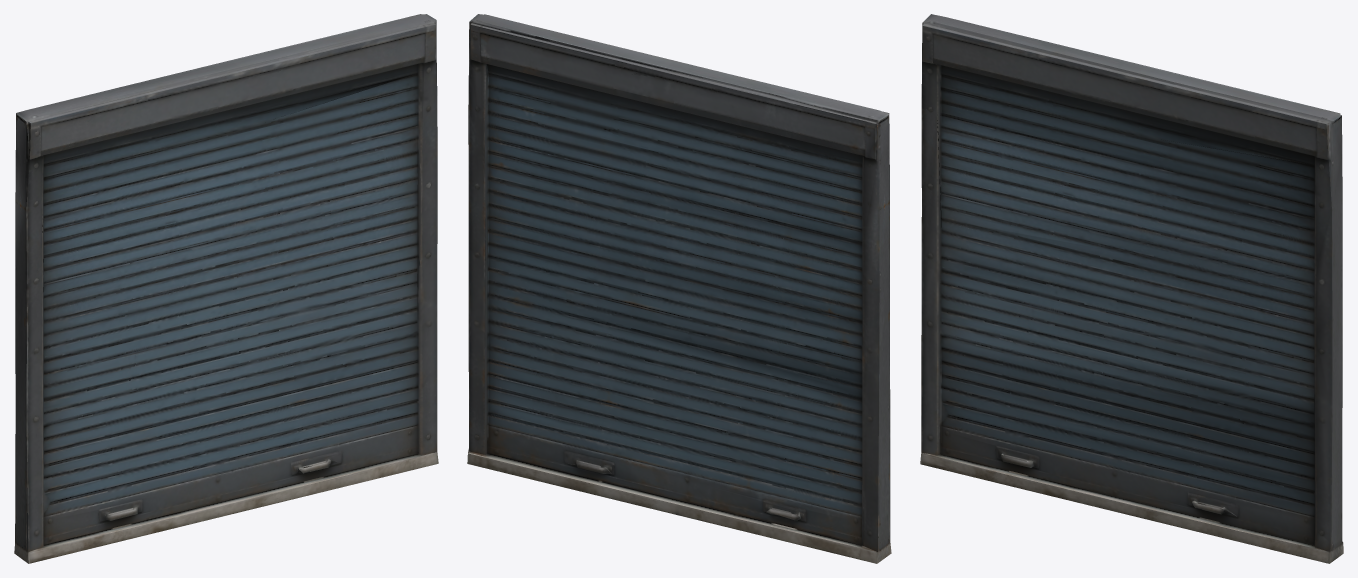
The model's file is door-assembly.glb.
The picture shows the model from 3 angles, left to right: view 1: azimuth 30°, elevation 25°; view 2: azimuth 150°, elevation 25°; view 3: azimuth 330°, elevation 25°; orthographic projection.
Visible parts, largest first — view 1: door-assembly; view 2: door-assembly; view 3: door-assembly.
Boxes of the visible parts, <box> form: door-assembly: <box>14,14,438,563</box>; door-assembly: <box>467,14,891,563</box>; door-assembly: <box>920,14,1343,563</box>.
Bounding box in the file's own units: 3.5 × 3.6 × 0.22.
Materials: 1 (1 with a texture image).
